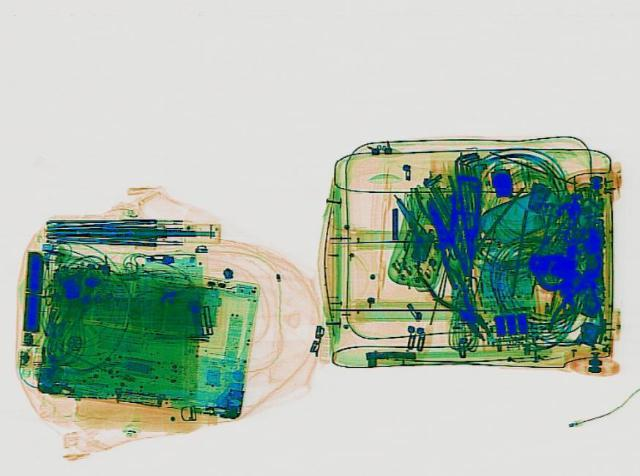Pliers: (414, 262, 506, 345), (416, 203, 476, 287)
